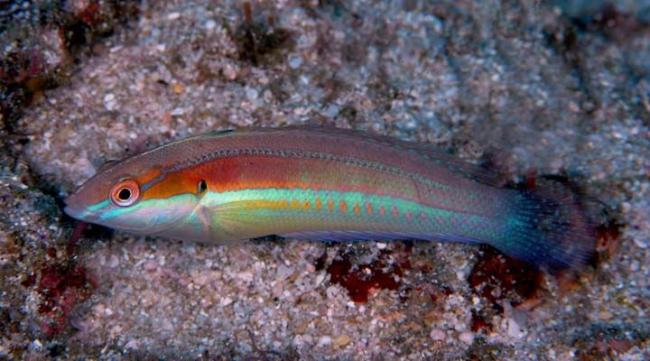fish: (64, 124, 593, 273)
